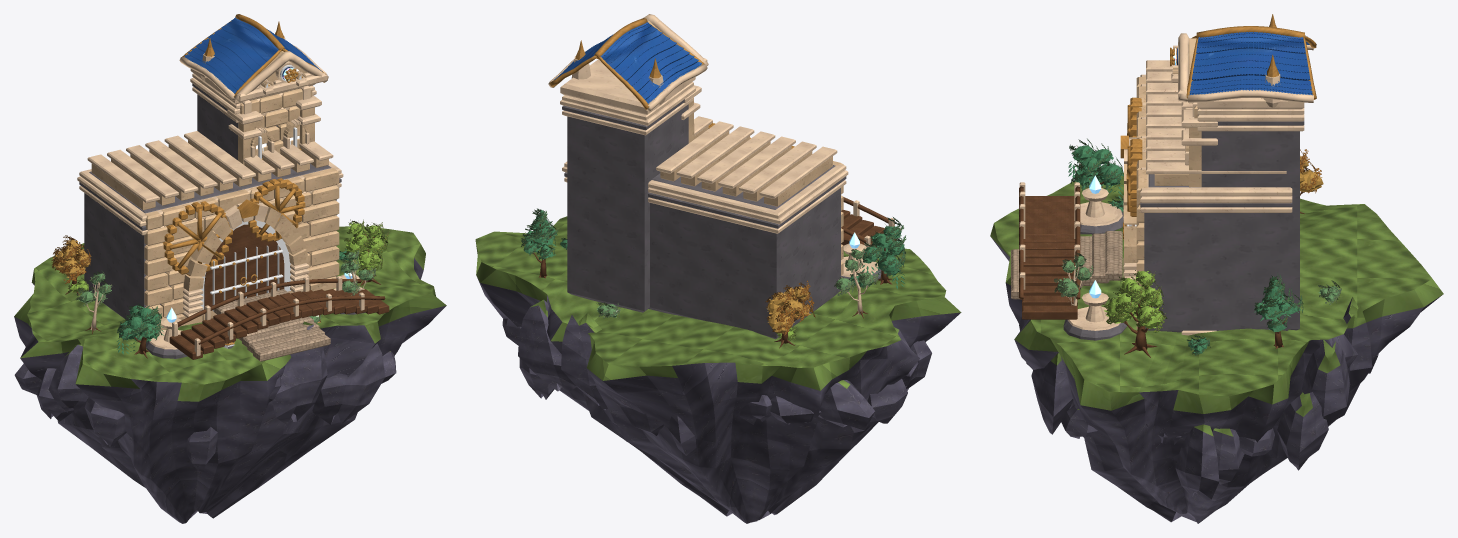
Rendered from island-3.glb.
3 renders of one model, left to right at view 1: azimuth 30°, elevation 25°; view 2: azimuth 150°, elevation 25°; view 3: azimuth 270°, elevation 25°, orthographic. The views are drawn at different scales.
Visible parts, largest first — view 1: Stratified cliffs and meadow / cliff, Stratified cliffs and meadow / top, Architecture / stone, Architecture / trim, Architecture / wood, Architecture / joint, Architecture / gold, Architecture / roof, Canopy oak / leaves, Canopy oak / sprays, Architecture / paving, Architecture / iron (+1 smaller); view 2: Stratified cliffs and meadow / cliff, Architecture / joint, Stratified cliffs and meadow / top, Architecture / trim, Architecture / roof, Canopy oak / sprays, Canopy oak / leaves, Architecture / stone, Architecture / wood, Architecture / gold; view 3: Stratified cliffs and meadow / top, Stratified cliffs and meadow / cliff, Architecture / joint, Architecture / trim, Architecture / wood, Architecture / roof, Canopy oak / leaves, Canopy oak / sprays, Architecture / stone, Architecture / gold, Architecture / paving.
Part boxes in pixels (x1=…): Stratified cliffs and meadow / cliff: x1=14, y1=258, x2=446, y2=523; Stratified cliffs and meadow / top: x1=14, y1=226, x2=446, y2=401; Architecture / stone: x1=91, y1=51, x2=339, y2=330; Architecture / trim: x1=77, y1=36, x2=372, y2=356; Architecture / wood: x1=54, y1=222, x2=389, y2=359; Architecture / joint: x1=79, y1=83, x2=365, y2=358; Architecture / gold: x1=162, y1=14, x2=325, y2=345; Architecture / roof: x1=184, y1=17, x2=322, y2=93; Canopy oak / leaves: x1=52, y1=222, x2=386, y2=354; Canopy oak / sprays: x1=51, y1=219, x2=389, y2=342; Architecture / paving: x1=214, y1=289, x2=330, y2=361; Architecture / iron: x1=210, y1=75, x2=319, y2=348; Stratified cliffs and meadow / cliff: x1=477, y1=277, x2=960, y2=523; Architecture / joint: x1=562, y1=99, x2=881, y2=339; Stratified cliffs and meadow / top: x1=475, y1=216, x2=961, y2=390; Architecture / trim: x1=548, y1=14, x2=894, y2=314; Architecture / roof: x1=554, y1=22, x2=701, y2=103; Canopy oak / sprays: x1=521, y1=208, x2=906, y2=341; Canopy oak / leaves: x1=524, y1=209, x2=904, y2=338; Architecture / stone: x1=647, y1=20, x2=843, y2=277; Architecture / wood: x1=524, y1=197, x2=900, y2=348; Architecture / gold: x1=550, y1=18, x2=794, y2=148; Stratified cliffs and meadow / top: x1=990, y1=172, x2=1443, y2=436; Stratified cliffs and meadow / cliff: x1=990, y1=236, x2=1441, y2=523; Architecture / joint: x1=1063, y1=121, x2=1304, y2=340; Architecture / trim: x1=1019, y1=33, x2=1313, y2=335; Architecture / wood: x1=1019, y1=145, x2=1313, y2=357; Architecture / roof: x1=1189, y1=32, x2=1312, y2=95; Canopy oak / leaves: x1=1057, y1=145, x2=1339, y2=353; Canopy oak / sprays: x1=1054, y1=138, x2=1341, y2=355; Architecture / stone: x1=1124, y1=38, x2=1201, y2=329; Architecture / gold: x1=1120, y1=14, x2=1316, y2=239; Architecture / paving: x1=1011, y1=231, x2=1122, y2=299.
Size of the model in its own units: 6.21 by 6.58 by 4.99.
21 materials, 12 textured.
